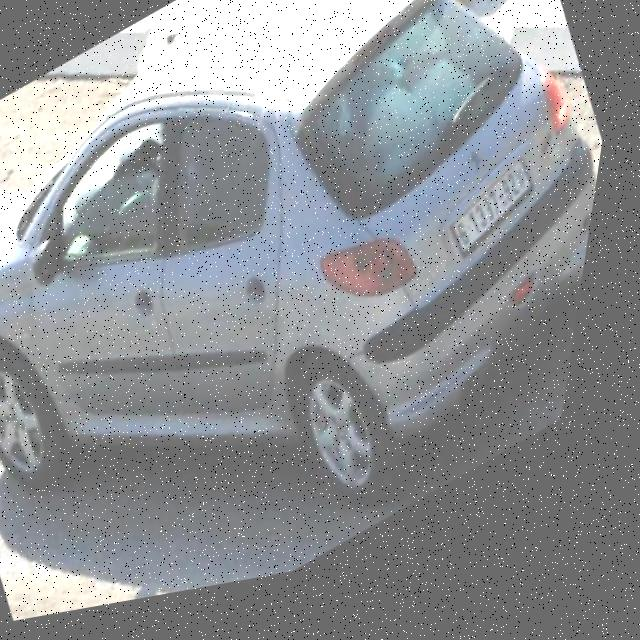license_plate: (448, 175, 554, 274)
